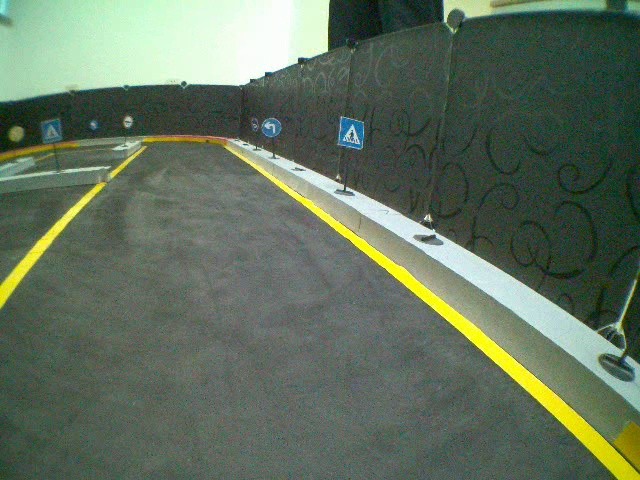crossing: (337, 116, 365, 151), (39, 118, 64, 143)
turn: (261, 116, 282, 139)
